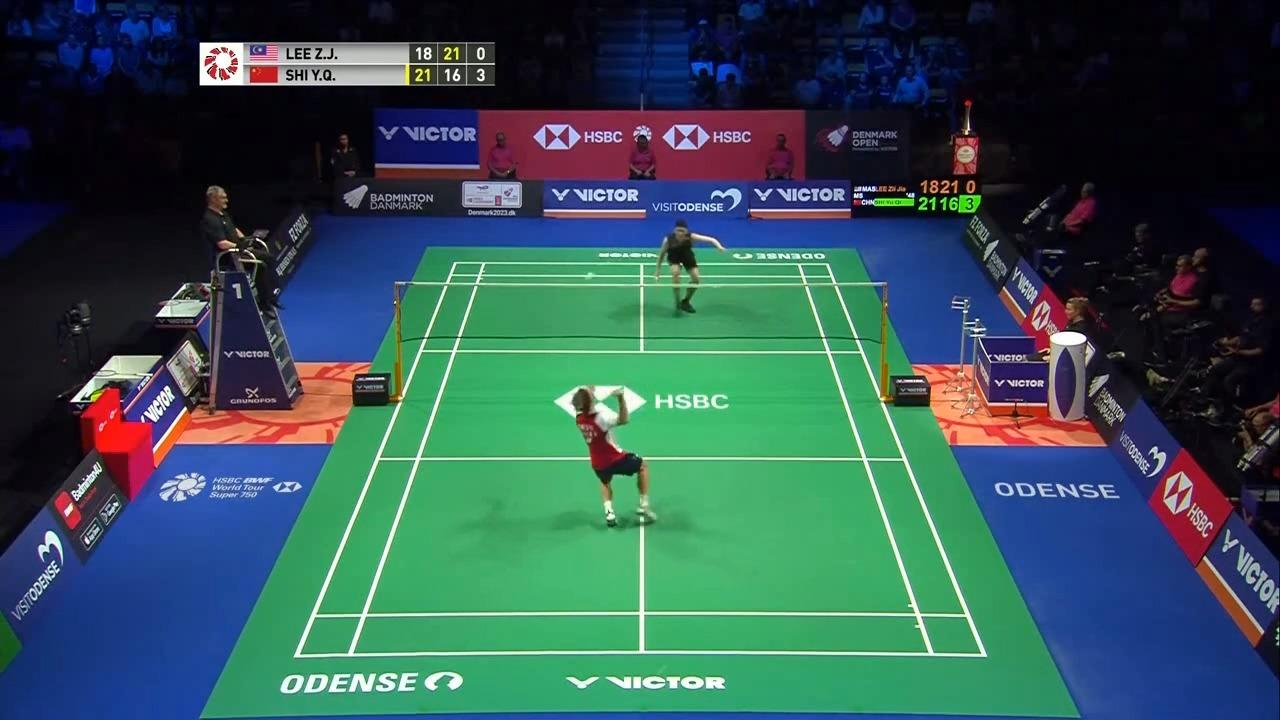shuttle: (584, 270, 597, 284)
